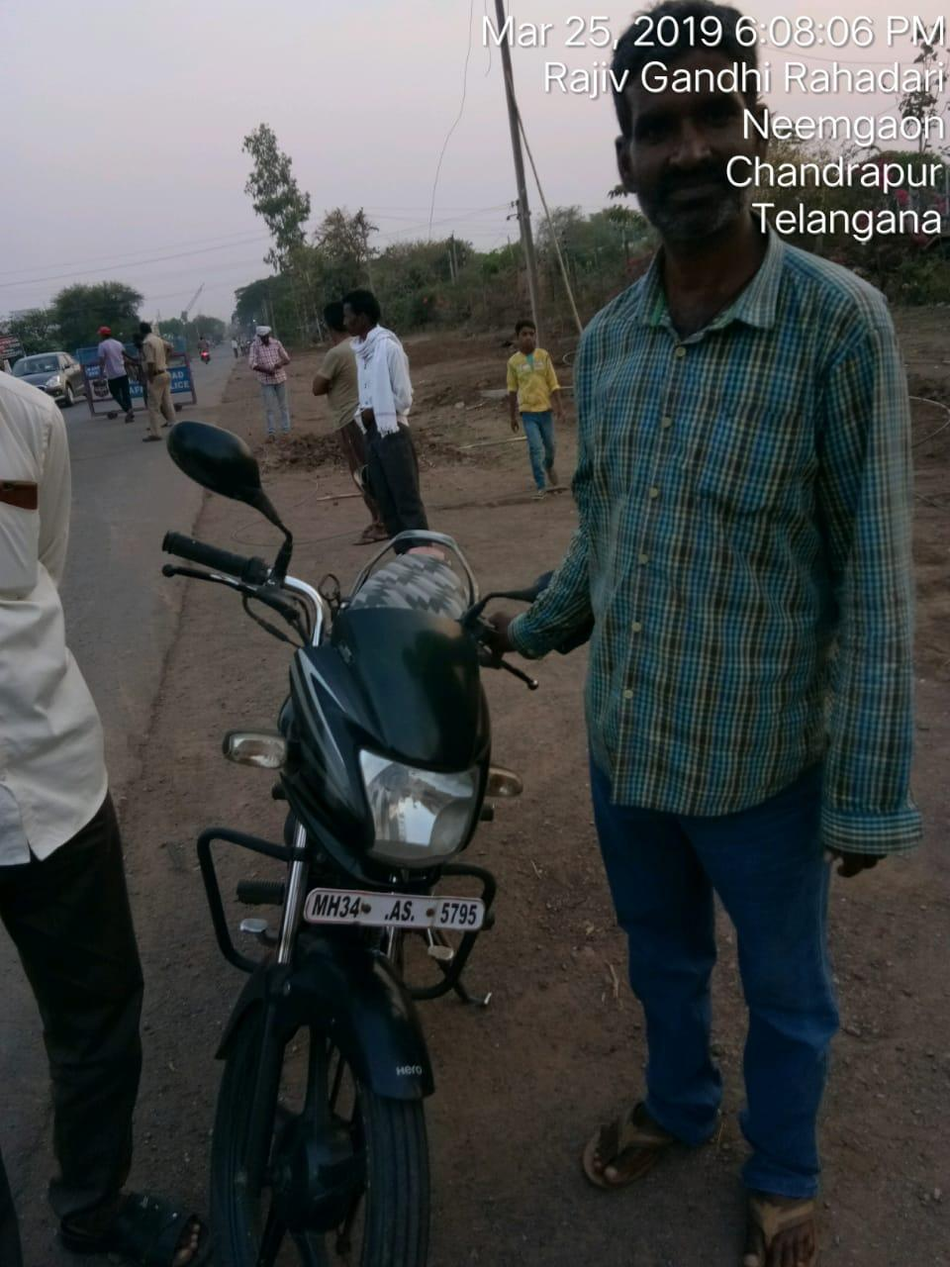plate: (283, 864, 501, 959)
